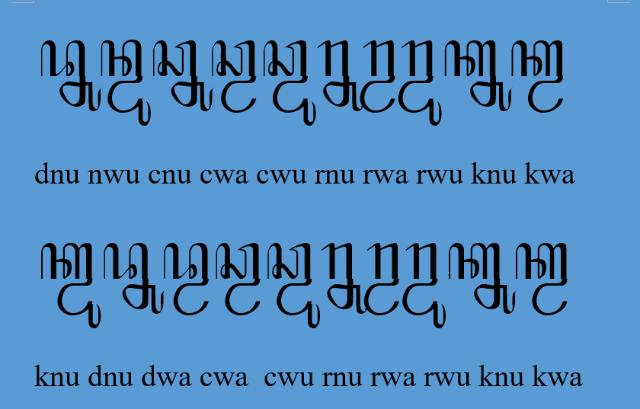cnu: (152, 40, 214, 112)
cw: (216, 243, 260, 318), (212, 39, 256, 113)
cwu: (267, 242, 321, 330), (263, 39, 317, 126)
dnu: (40, 40, 102, 112), (104, 242, 164, 314)
dw: (162, 242, 210, 316)
knu: (41, 243, 101, 329), (444, 40, 514, 112), (448, 243, 516, 315)
kw: (511, 39, 564, 113), (516, 242, 568, 316)
nwu: (100, 39, 152, 126)
rnu: (316, 40, 364, 112), (321, 242, 369, 314)
rw: (360, 39, 396, 113), (363, 242, 399, 316)
rwu: (402, 242, 446, 330), (398, 40, 442, 126)
